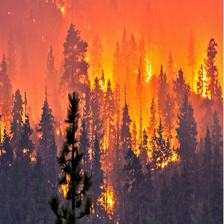fire: (34, 15, 184, 208)
